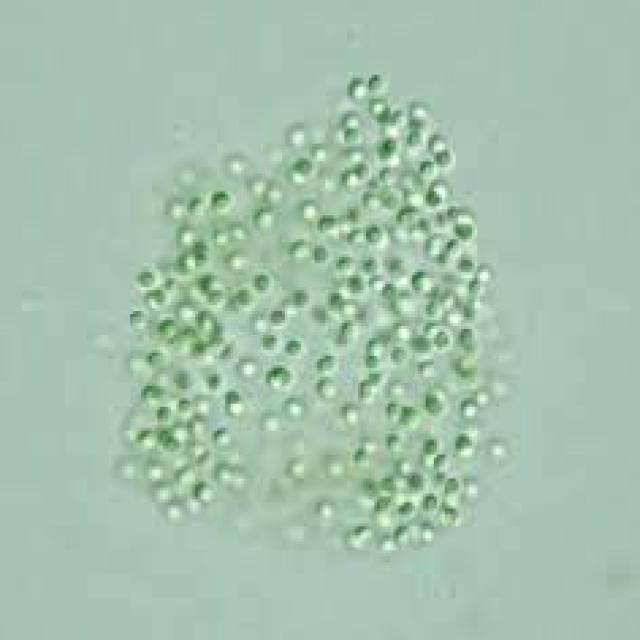Blue Green Algae: (206, 188, 236, 216), (372, 134, 402, 162), (364, 218, 391, 248), (230, 284, 258, 311), (352, 377, 377, 407), (428, 323, 453, 353), (266, 365, 293, 392), (456, 323, 480, 353), (192, 478, 217, 506), (453, 218, 477, 246), (342, 122, 369, 146), (334, 248, 358, 275), (314, 210, 342, 233), (423, 388, 445, 416), (195, 272, 220, 296), (200, 371, 228, 392), (293, 152, 317, 176), (266, 305, 290, 329), (171, 251, 195, 275), (388, 341, 412, 365), (190, 239, 211, 266), (350, 158, 374, 180), (377, 134, 401, 156), (252, 269, 274, 293), (309, 302, 331, 326), (309, 239, 331, 263), (190, 335, 209, 362), (366, 72, 388, 95), (152, 400, 173, 424), (434, 146, 455, 168), (423, 182, 442, 206), (133, 266, 154, 287), (418, 491, 439, 512), (404, 128, 423, 150), (420, 436, 440, 454), (158, 314, 176, 332)
